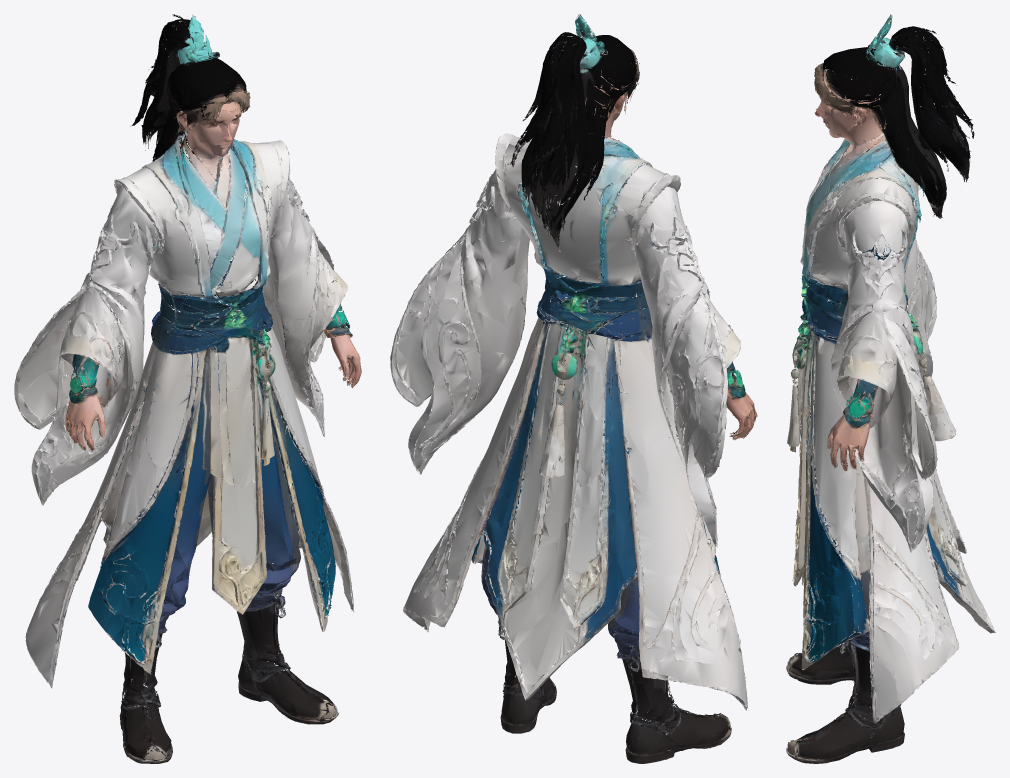
The model's file is qingyao_gameplay_lod.glb.
3 views of the same model, side by side, from view 1: azimuth 30°, elevation 25°; view 2: azimuth 150°, elevation 25°; view 3: azimuth 270°, elevation 25° (orthographic). The views are drawn at different scales.
Visible parts, largest first — view 1: model; view 2: model; view 3: model.
Part boxes in pixels (<box>): model: <box>14,14,361,763</box>; model: <box>390,14,757,763</box>; model: <box>786,14,995,763</box>.
Bounding box in the file's own units: 0.9023 × 1.89 × 0.5131.
Materials: 1 (1 with a texture image).
